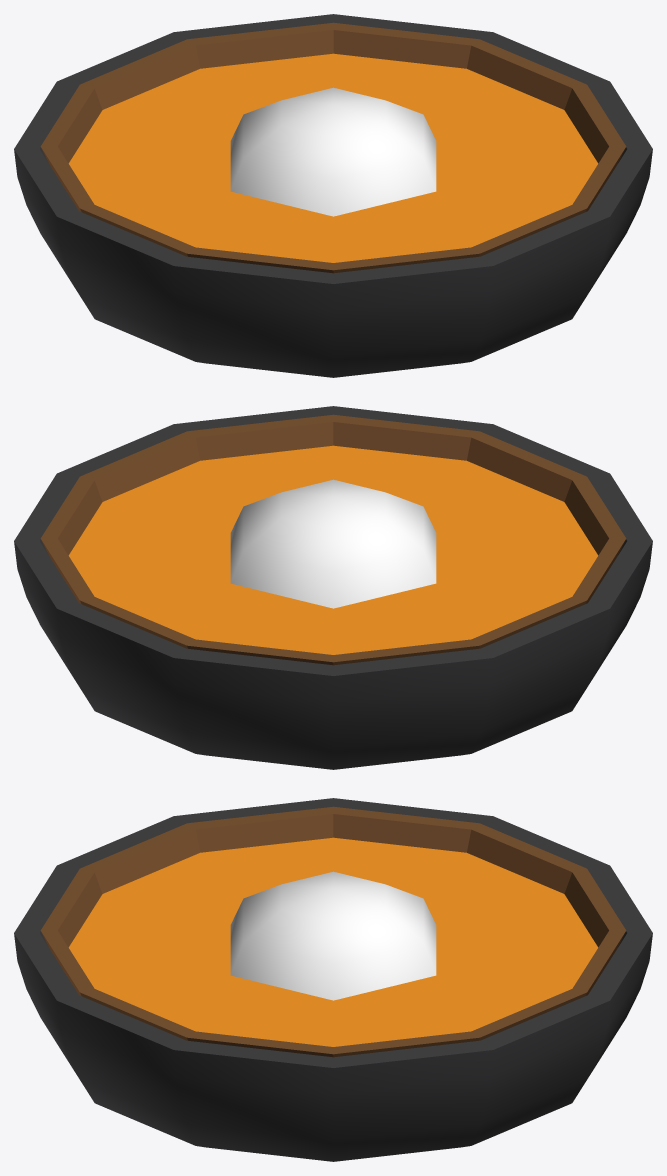
File: MM_PumpkinPie.fbx
3 renders of one model, top to bottom at view 1: azimuth 30°, elevation 25°; view 2: azimuth 150°, elevation 25°; view 3: azimuth 270°, elevation 25°, orthographic.
Parts seen in each view (by area): view 1: MM_PumpkinPie; view 2: MM_PumpkinPie; view 3: MM_PumpkinPie.
Boxes of the visible parts, bbox=[...] form: MM_PumpkinPie: bbox=[14, 14, 652, 377]; MM_PumpkinPie: bbox=[14, 406, 652, 769]; MM_PumpkinPie: bbox=[14, 798, 652, 1161].
Bounding box in the file's own units: 94.32 × 26.97 × 94.32.
